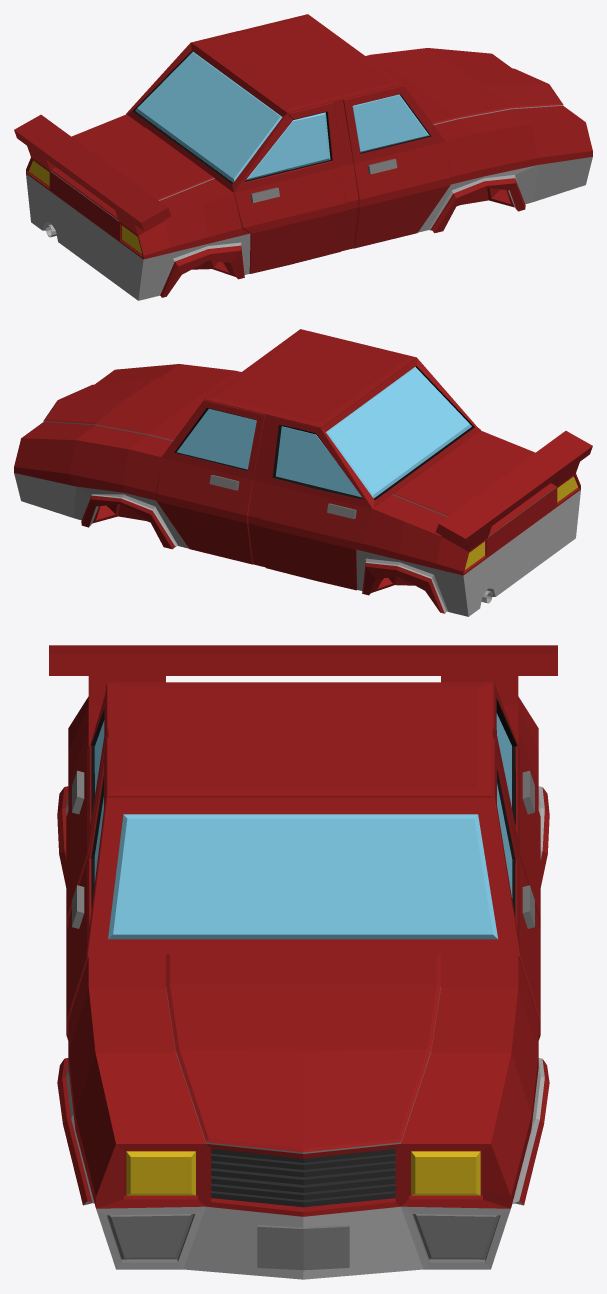
The model's file is car.fbx.
3 renders of one model, top to bottom at view 1: azimuth 30°, elevation 25°; view 2: azimuth 150°, elevation 25°; view 3: azimuth 270°, elevation 25°, orthographic. The views are drawn at different scales.
Visible parts, largest first — view 1: Group36302; view 2: Group36302; view 3: Group36302.
Part boxes in pixels (bbox=[...]): Group36302: bbox=[14, 14, 592, 300]; Group36302: bbox=[14, 329, 592, 616]; Group36302: bbox=[49, 645, 557, 1279].
Bounding box in the file's own units: 568 × 171 × 265.
